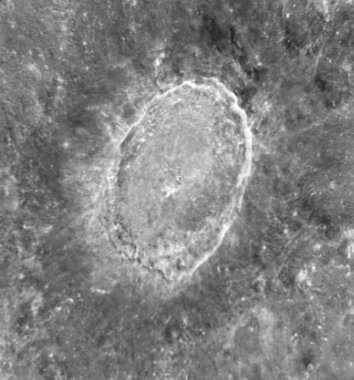crater: (45, 41, 303, 341)
